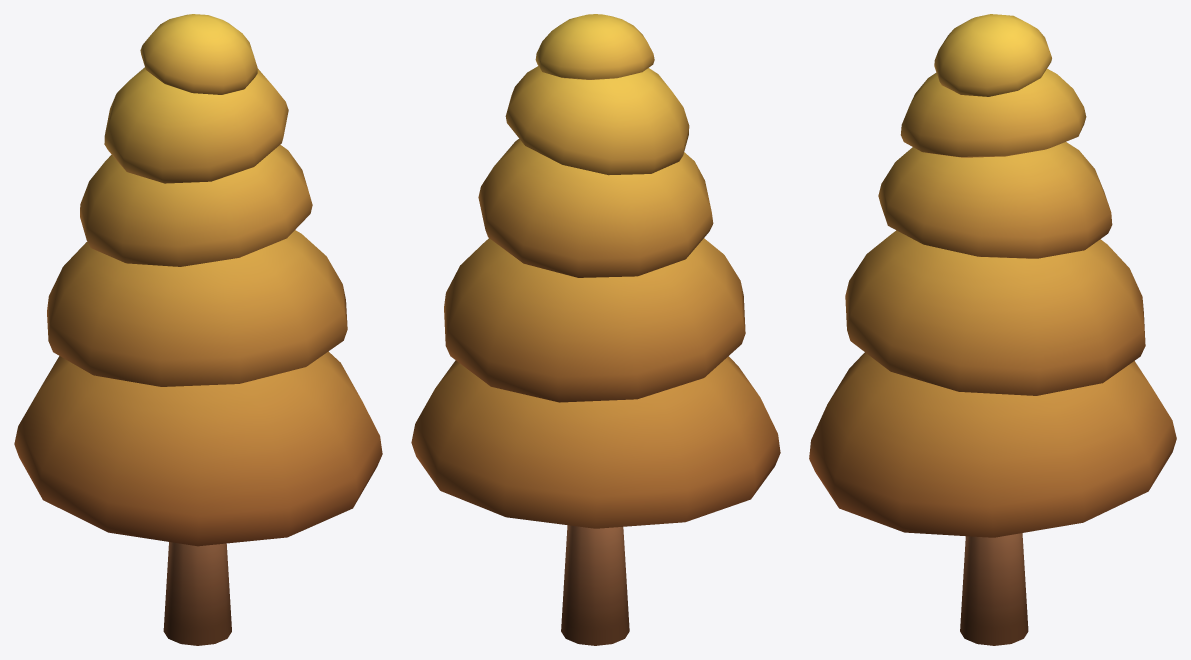
The model's file is lpb_tree_3_c.fbx.
3 renders of one model, left to right at view 1: azimuth 30°, elevation 25°; view 2: azimuth 150°, elevation 25°; view 3: azimuth 270°, elevation 25°, orthographic.
Visible parts, largest first — view 1: ap_tree_3.002; view 2: ap_tree_3.002; view 3: ap_tree_3.002.
Boxes of the visible parts, x1,y1,x2,y2 form: ap_tree_3.002: [14, 14, 382, 645]; ap_tree_3.002: [411, 14, 780, 645]; ap_tree_3.002: [809, 14, 1176, 645].
Bounding box in the file's own units: 293 × 536 × 293.
